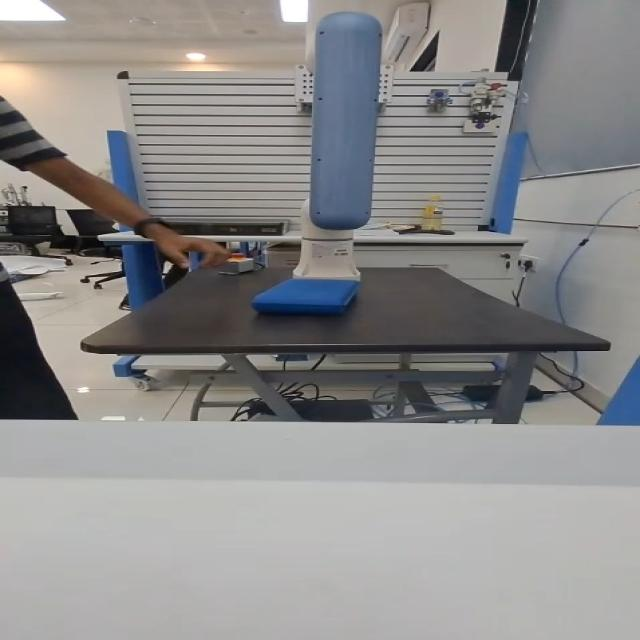top-surface: (268, 279, 348, 298)
